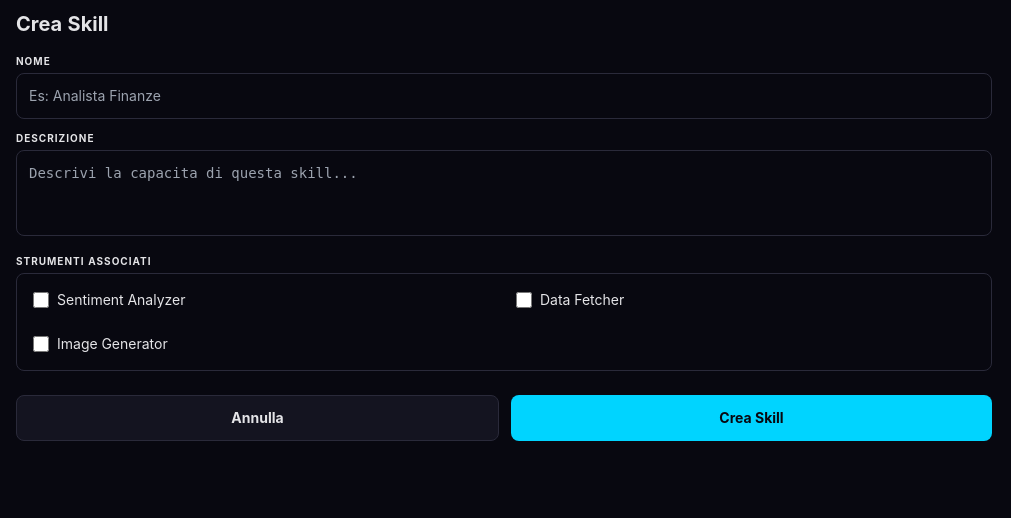
Test case: SkillForm › clears save error on retry
Click the button "Crea Skill": (752, 418) [511,395,992,441]
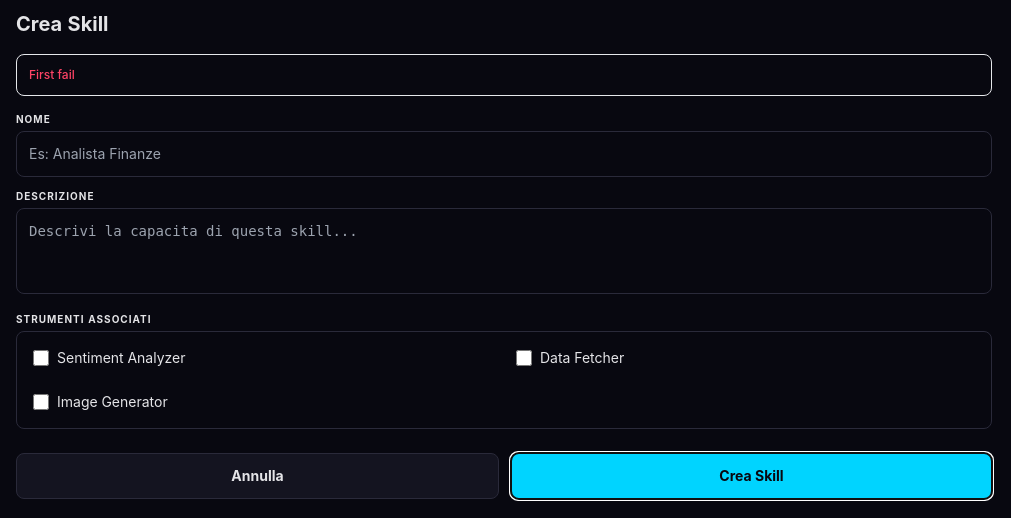
expect the text "First fail" is shown: met, box [16,54,992,96]
Click the button "Crea Skill": (752, 476) [511,453,992,499]
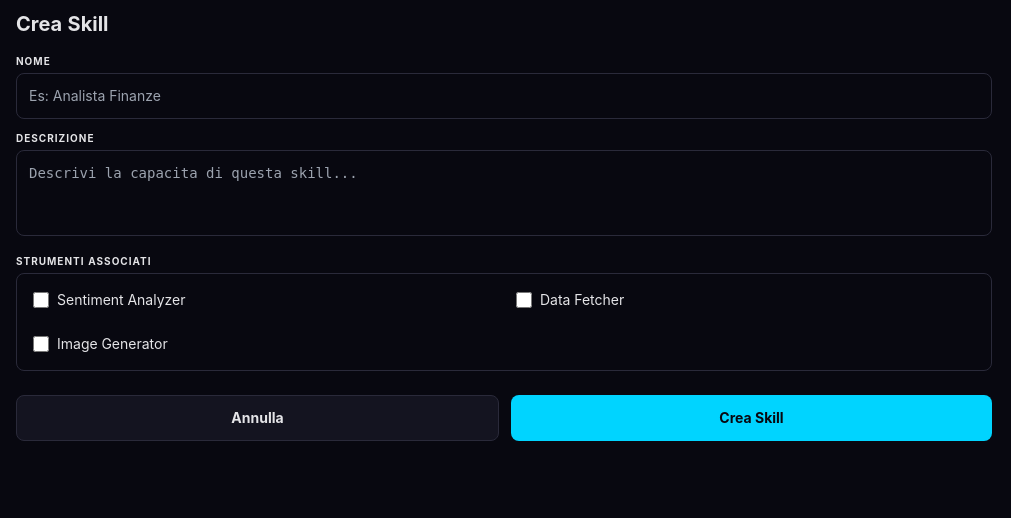
expect the text "First fail" is gone: met
